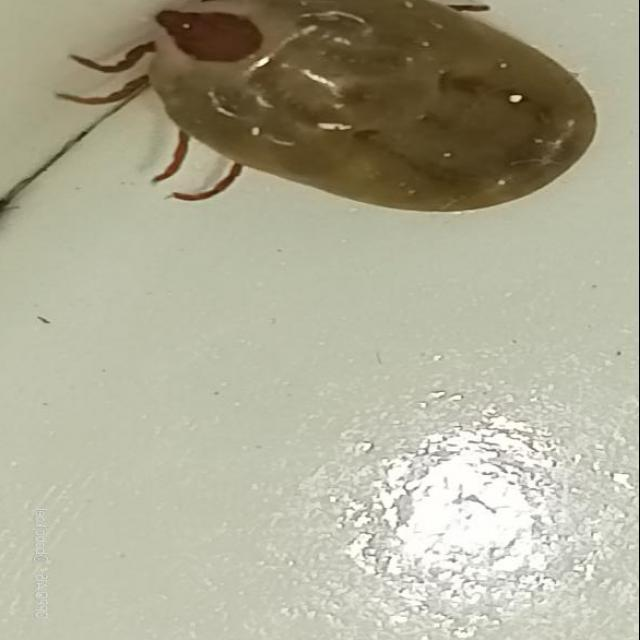Rhipicephalus Sanguineus-F-Fed: (54, 0, 597, 214)
